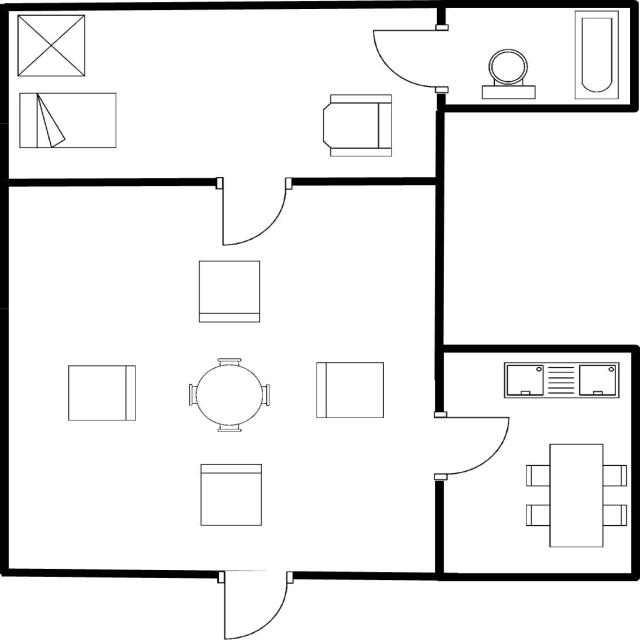armchair: (314, 89, 398, 161)
bed: (15, 89, 121, 153)
coffee_table: (14, 12, 89, 82)
dining_table: (520, 438, 628, 550)
large_sink: (476, 44, 540, 101)
round_table: (182, 353, 274, 435)
small_sofa: (60, 360, 140, 425), (193, 254, 264, 326), (194, 460, 266, 530), (312, 358, 387, 421)
tub: (572, 8, 622, 104)
twin_sink: (500, 358, 623, 403)
